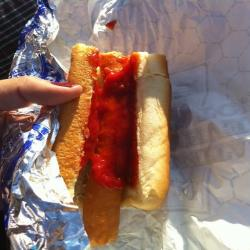hotdog: (39, 35, 175, 227)
